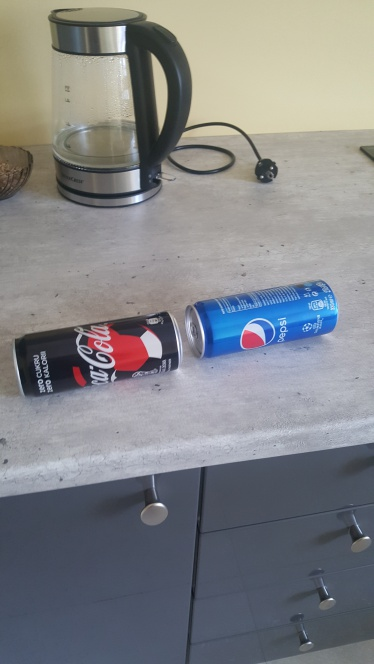colazero: (8, 308, 184, 398)
pepsi: (182, 277, 342, 363)
